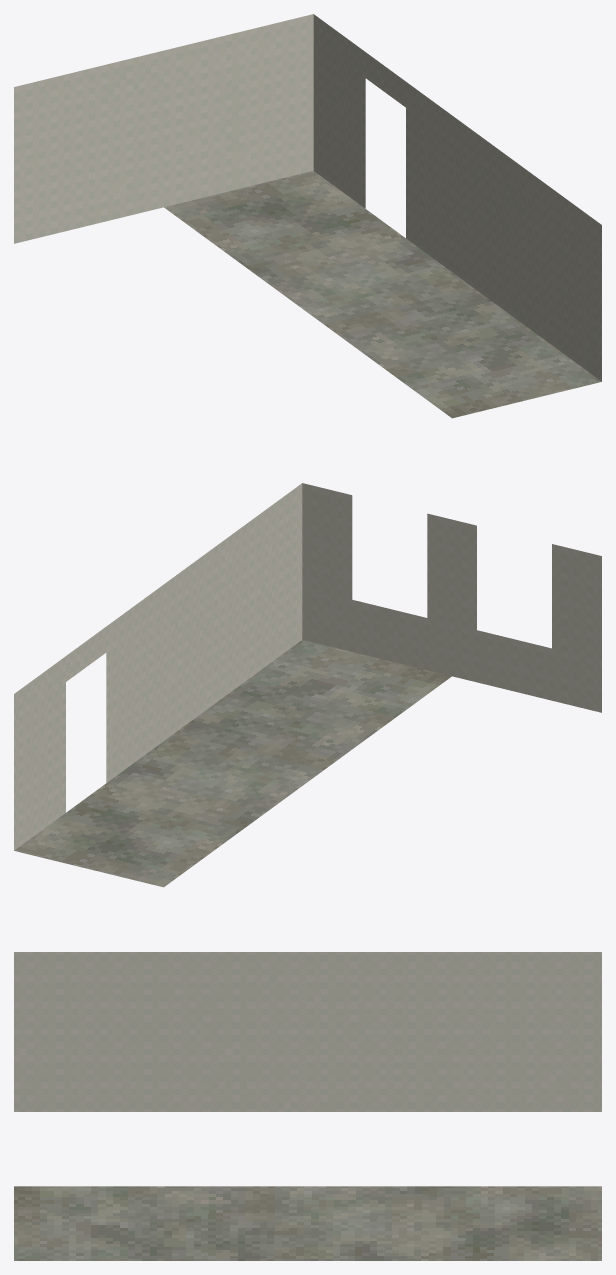
File: travel_agency_side_stair_top.glb
3 views of the same model, one above another, from view 1: azimuth 30°, elevation 25°; view 2: azimuth 150°, elevation 25°; view 3: azimuth 270°, elevation 25° (orthographic).
Visible parts, largest first — view 1: SideStairs_top; view 2: SideStairs_top; view 3: SideStairs_top.
Boxes of the visible parts, x1,y1,x2,y2 form: SideStairs_top: [14, 14, 601, 418]; SideStairs_top: [14, 483, 601, 887]; SideStairs_top: [14, 952, 601, 1260].
Bounding box in the file's own units: 6 × 3 × 10.
Materials: 2 (2 with a texture image).
